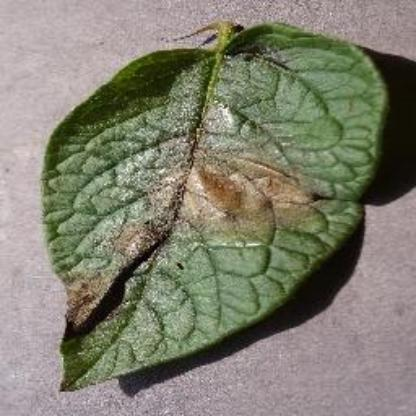Late-Blight: (38, 13, 394, 390)
